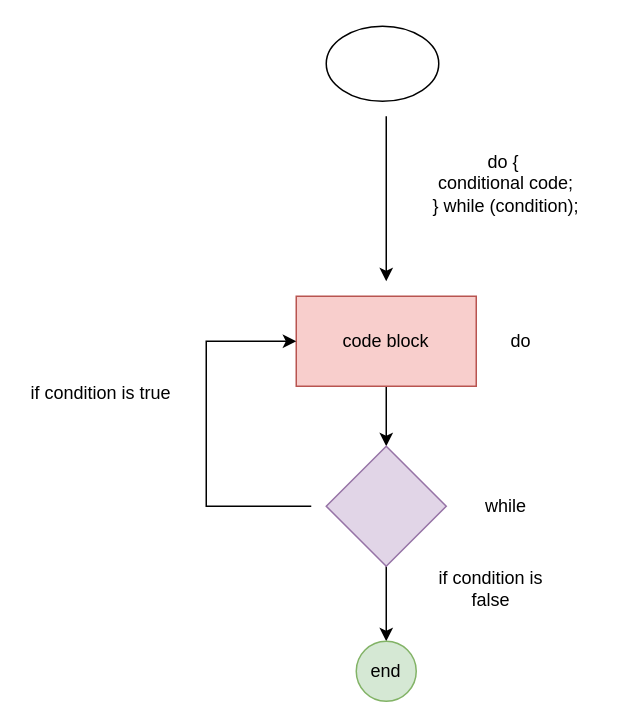
Some shapes in this 636 by 728 pixel diagram are drawn without their labels. The shapes that lost their labels are listed below. From the top down, each one's centre as x and y in pixels, then its label:
At point 382,63: "starting point".
At point 385,505: "condition".
